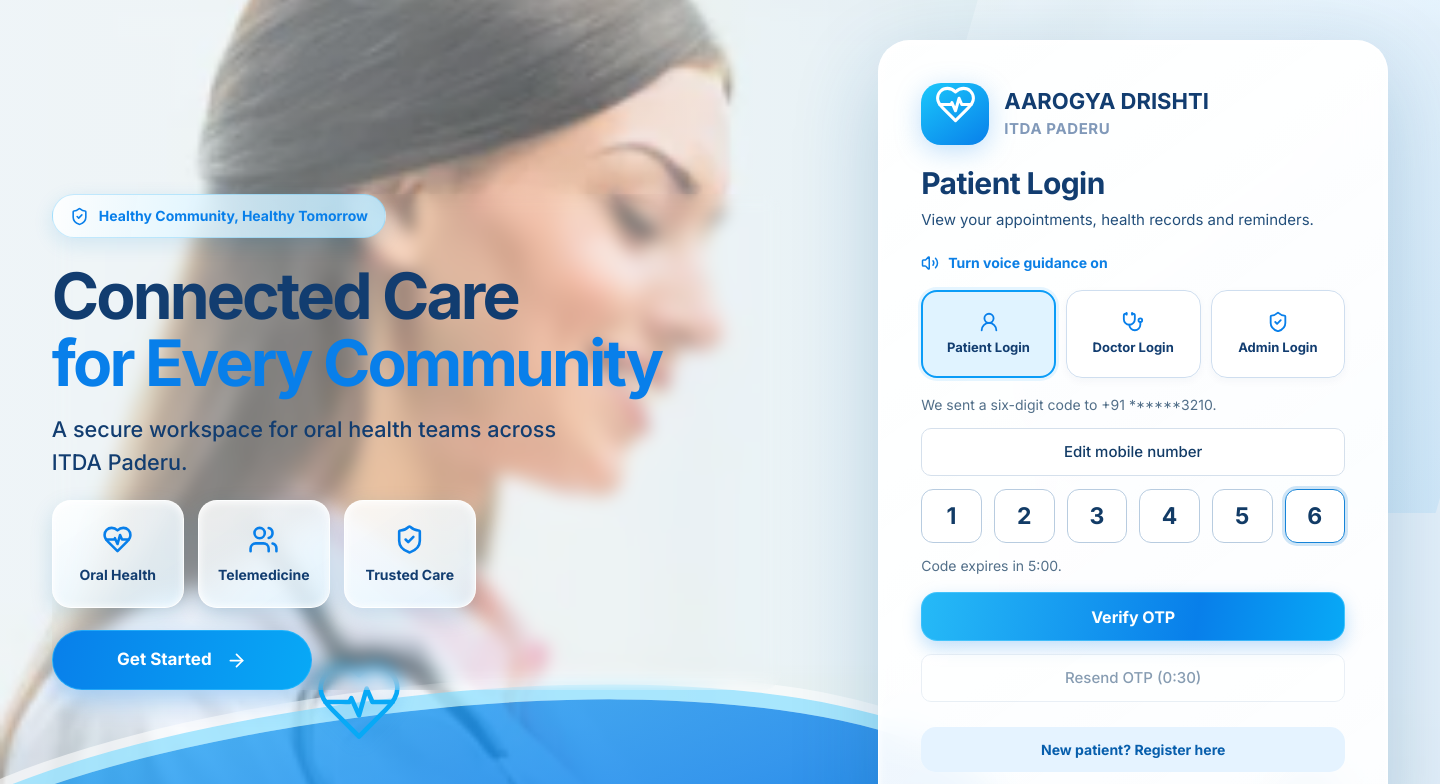
Test: role-based login selection › explains when Twilio Verify is temporarily unavailable
Earlier steps of the test are not shown.
Click the button "Verify OTP". click: (1133,617)
box: [921, 592, 1345, 641]
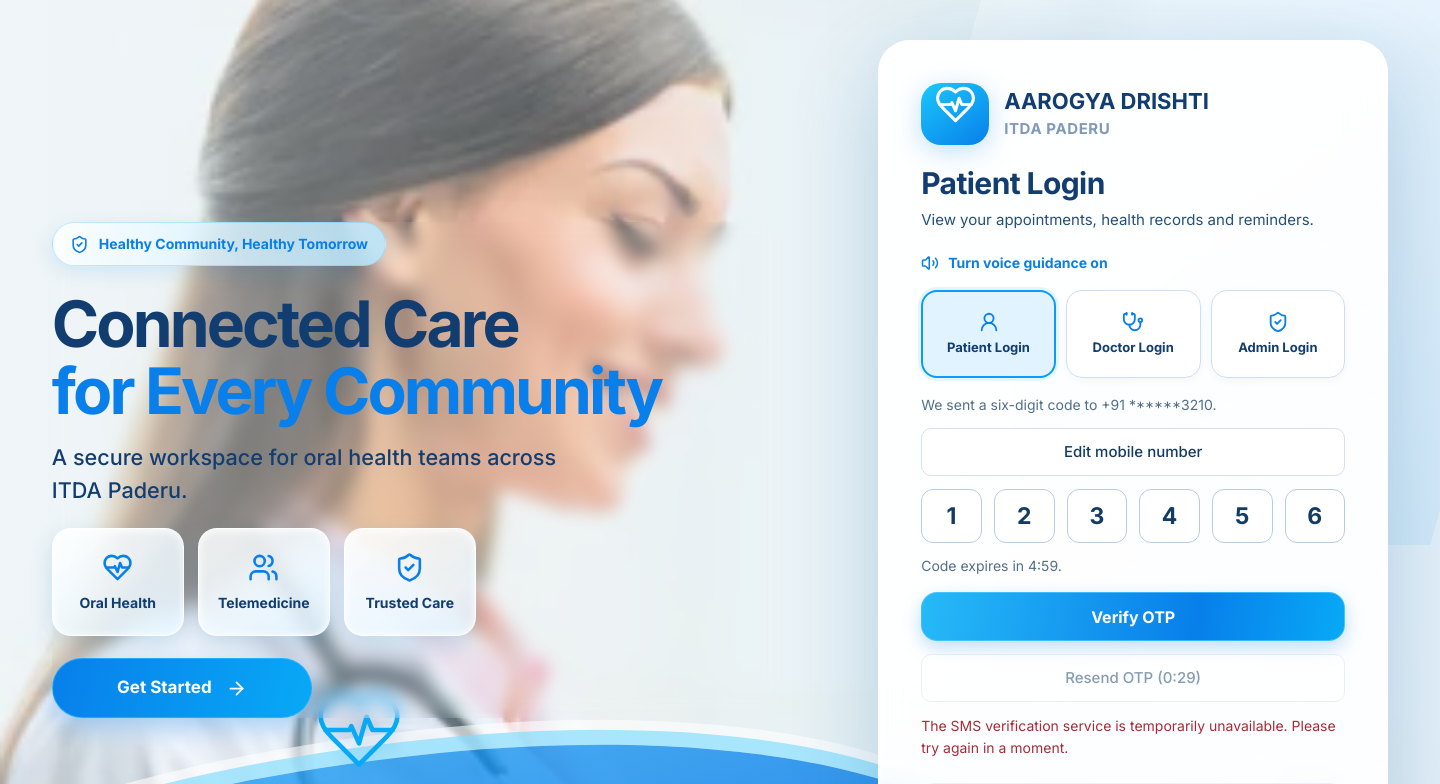
Expected: the message shows "The SMS verification service is temporarily unavailable. Please try again in a moment.", [921, 717, 1336, 756]
